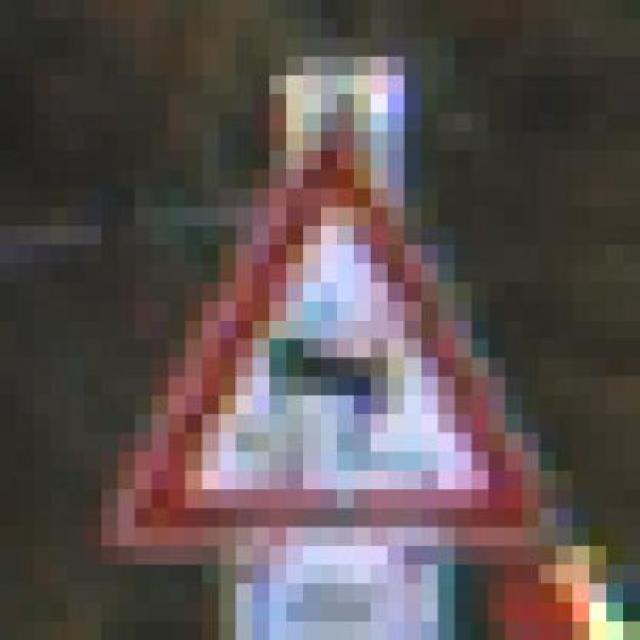Slippery Road Ahead: (101, 76, 573, 564)
